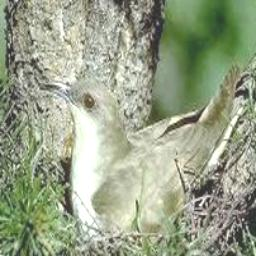Cuckoo: (38, 63, 238, 241)
